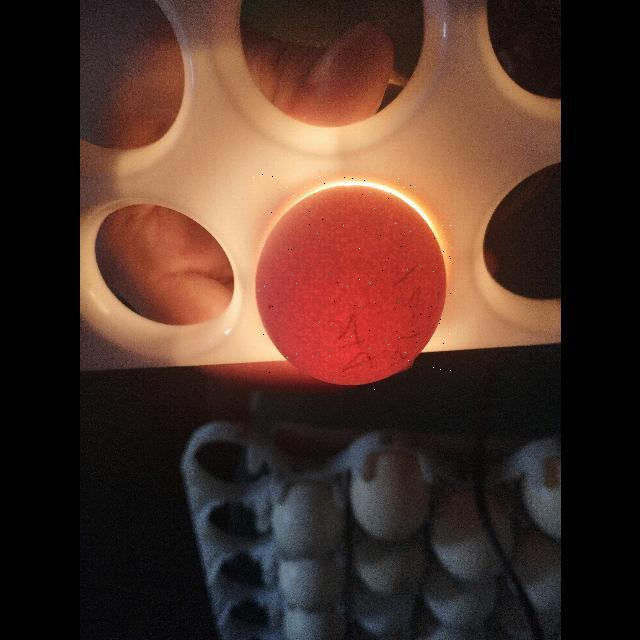Infertile: (252, 174, 454, 390)
